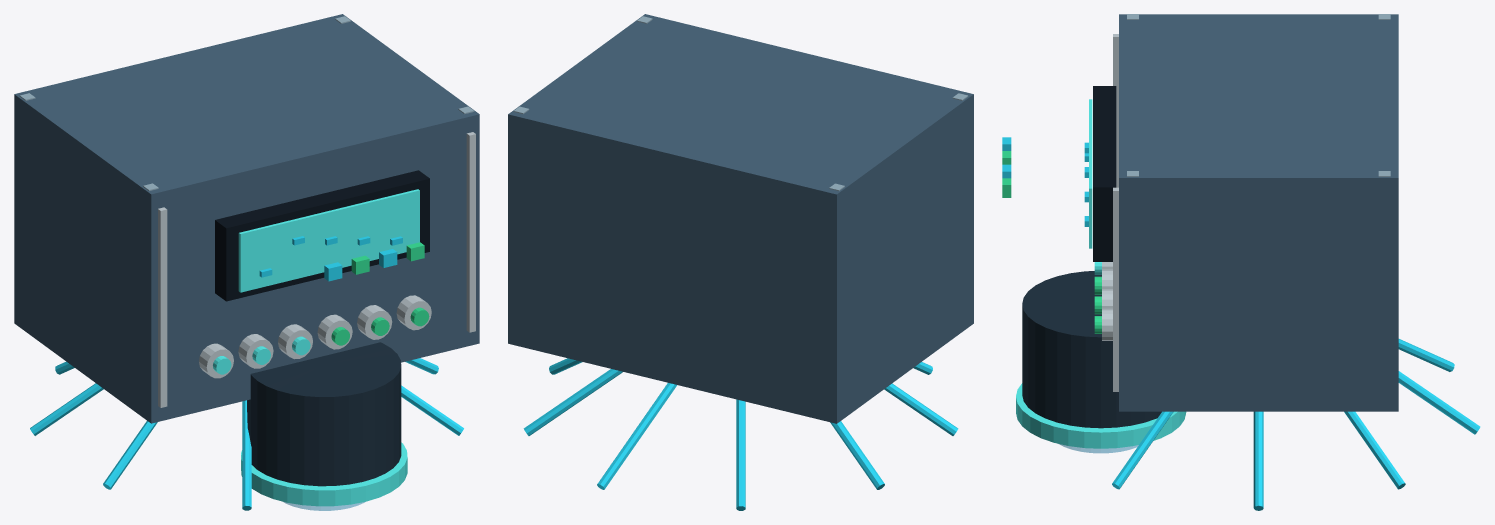
The model's file is 40_L79_BondFrontOpticalImager.fbx.
The picture shows the model from 3 angles, left to right: view 1: azimuth 30°, elevation 25°; view 2: azimuth 150°, elevation 25°; view 3: azimuth 270°, elevation 25°; orthographic projection. The views are drawn at different scales.
Visible parts, largest first — view 1: BondFrontOpticalImager; view 2: BondFrontOpticalImager; view 3: BondFrontOpticalImager.
Part boxes in pixels (x1,y1,x2,y2): BondFrontOpticalImager: (14, 14, 479, 510); BondFrontOpticalImager: (508, 14, 973, 510); BondFrontOpticalImager: (1002, 14, 1480, 510).
Size of the model in its own units: 122 by 104 by 133.
